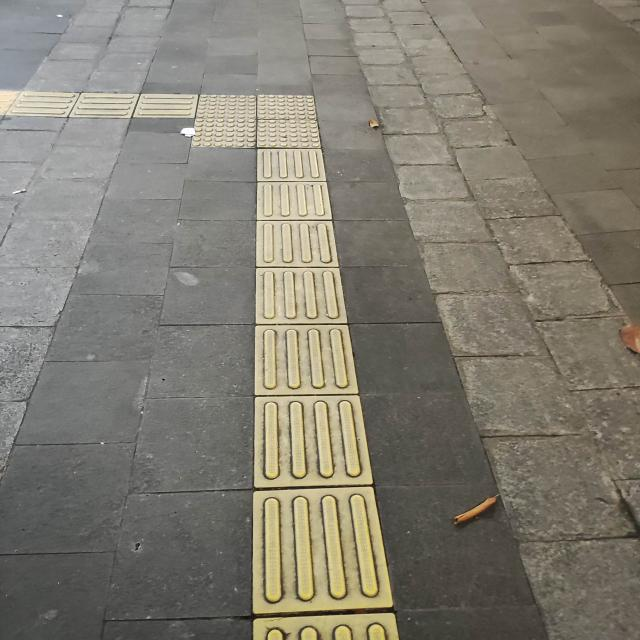kiri: (83, 66, 360, 172)
